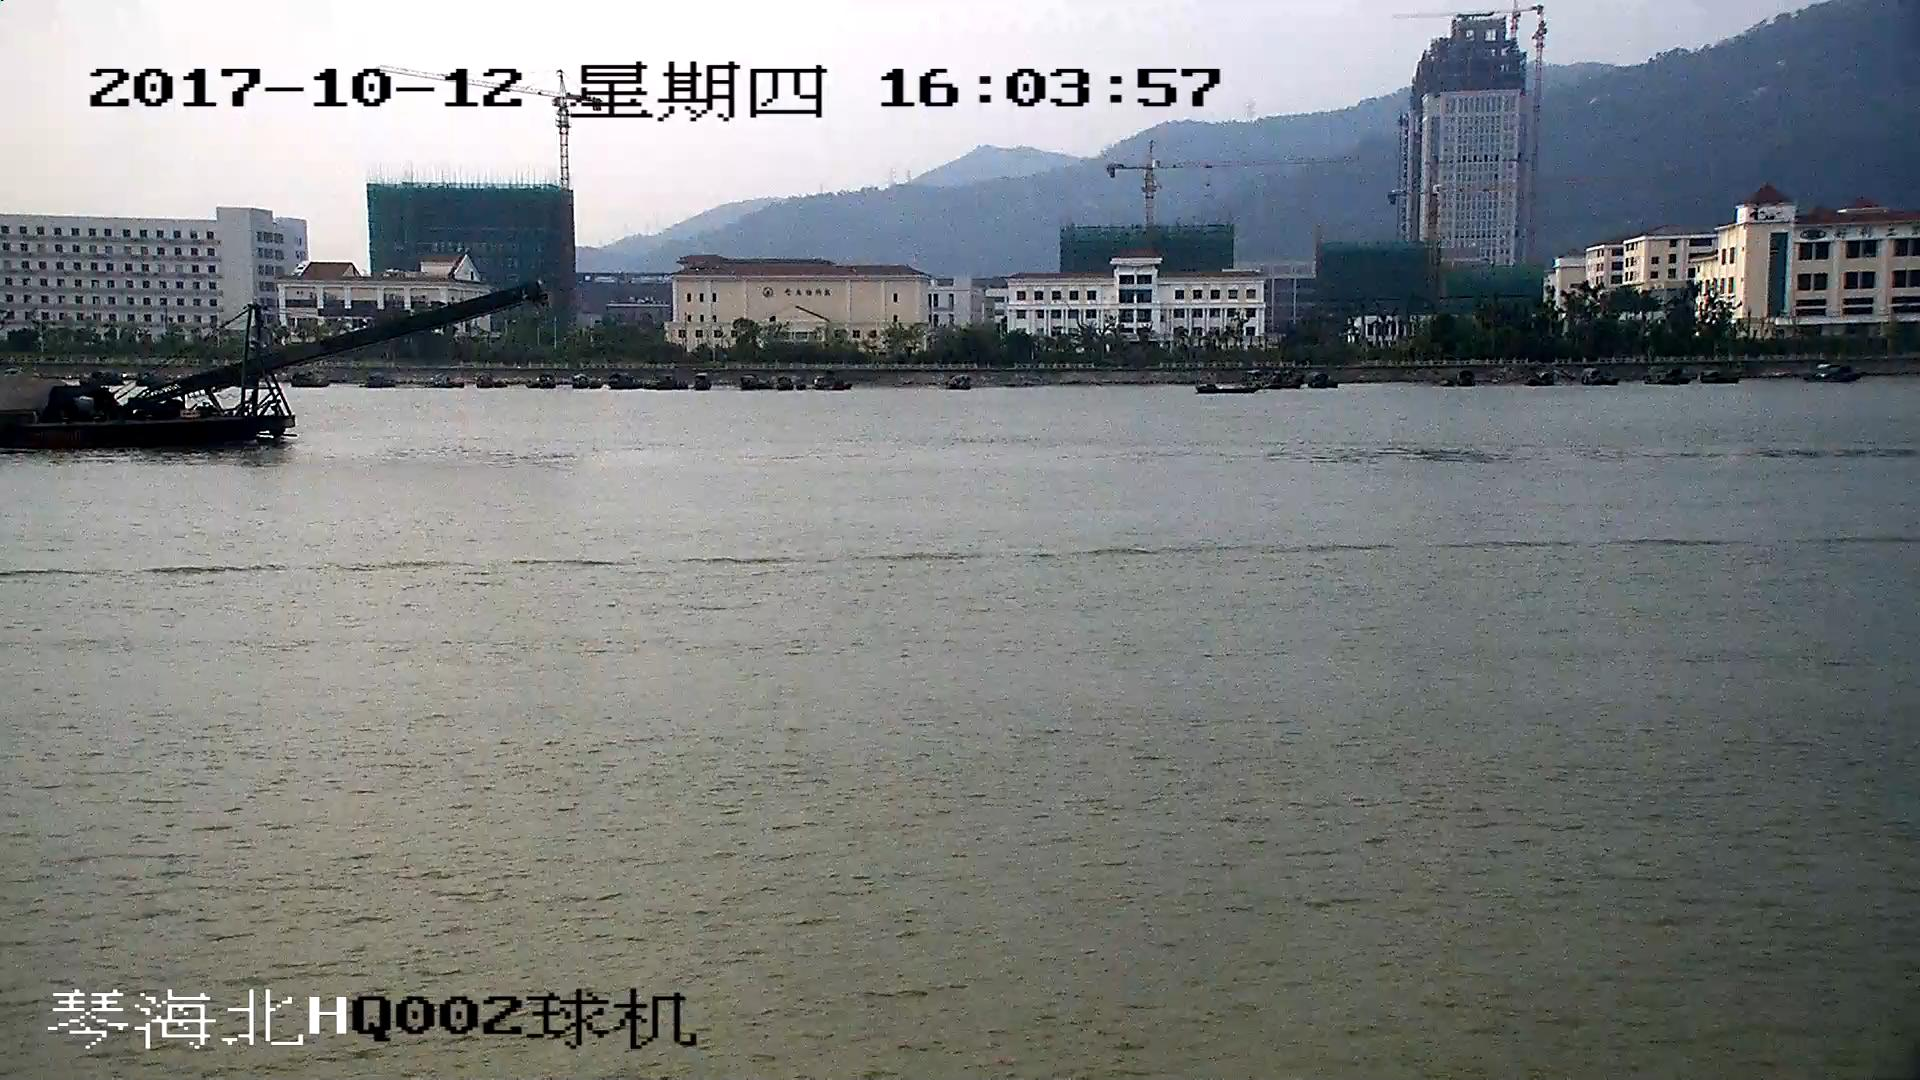ore carrier: (1, 283, 538, 447)
